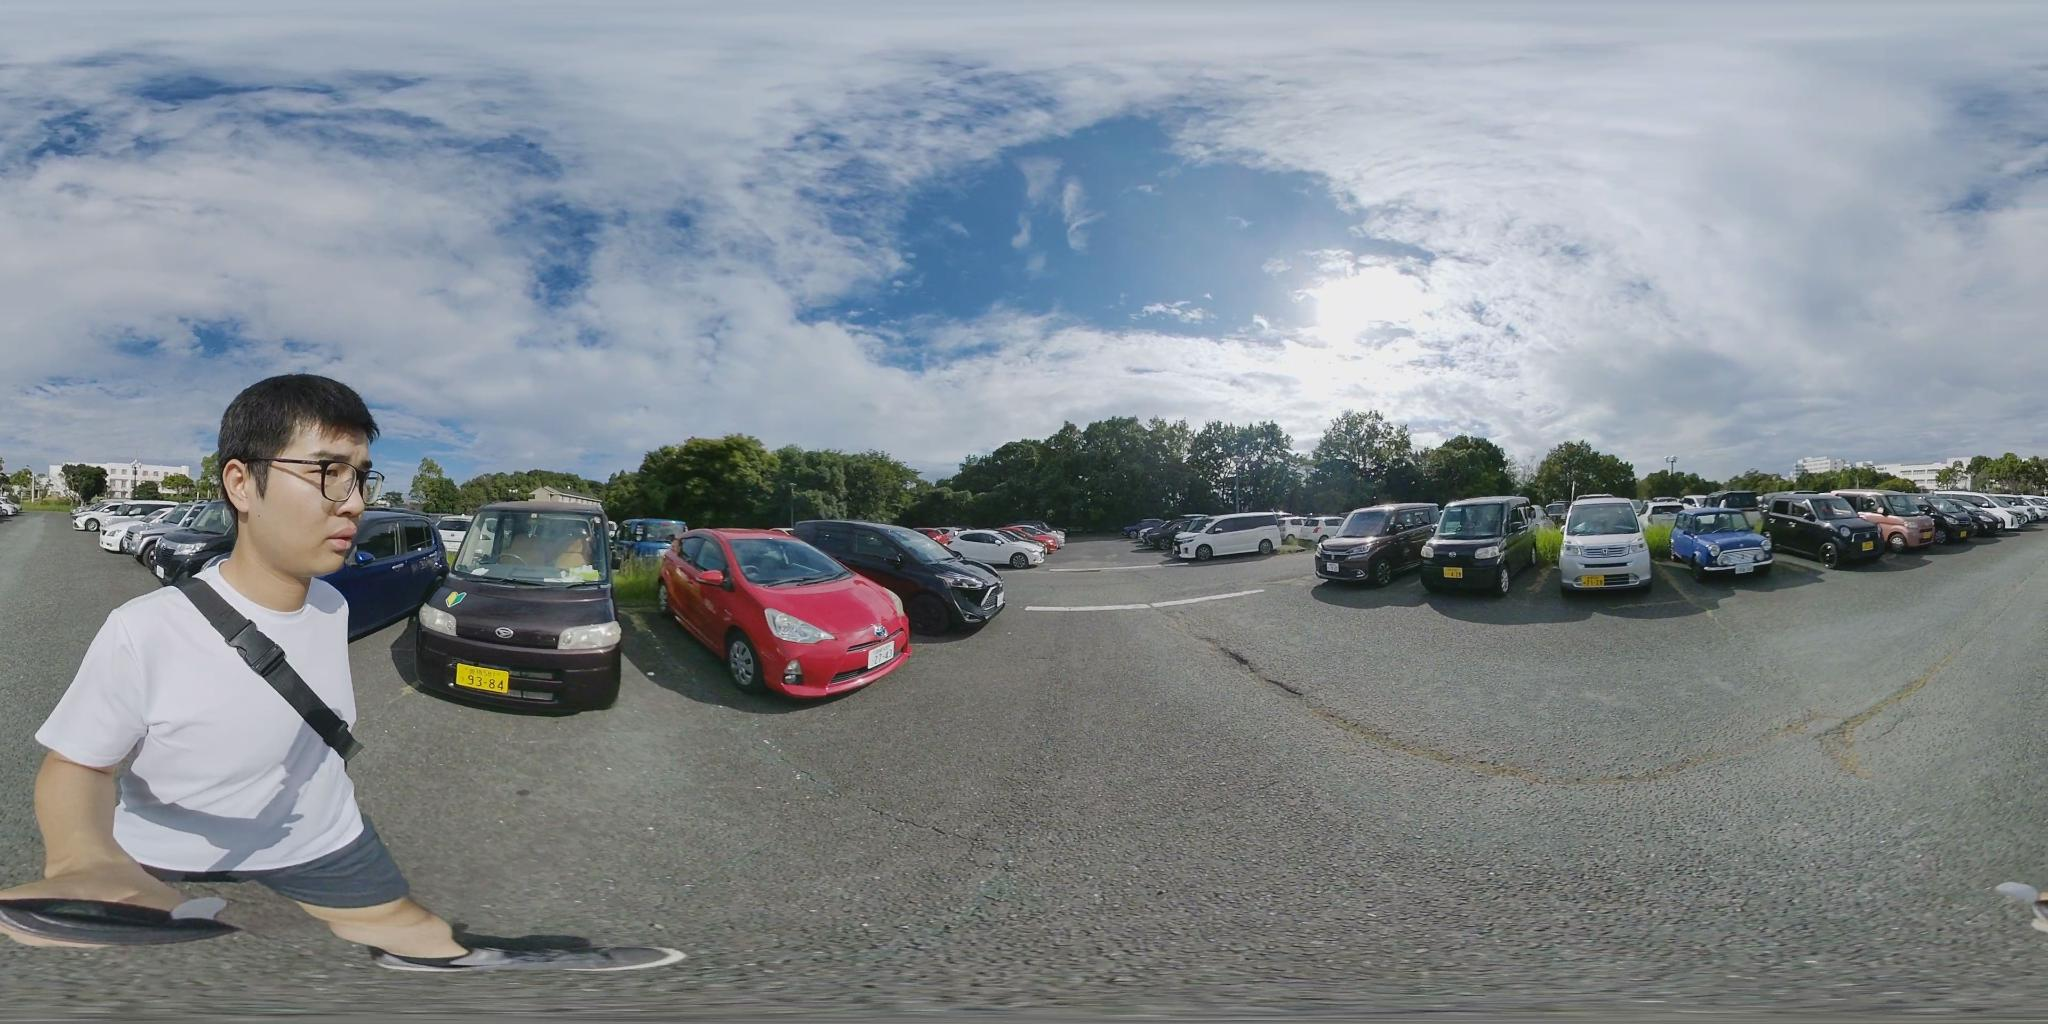car: (643, 522, 920, 708), (404, 505, 627, 717), (784, 517, 1019, 636), (1424, 498, 1539, 593), (1314, 507, 1445, 586), (1562, 500, 1650, 598), (1768, 492, 1880, 566), (1677, 505, 1767, 583), (1174, 513, 1323, 559), (89, 503, 201, 552), (947, 524, 1059, 568), (69, 499, 168, 534), (620, 515, 687, 551), (0, 496, 16, 517)
